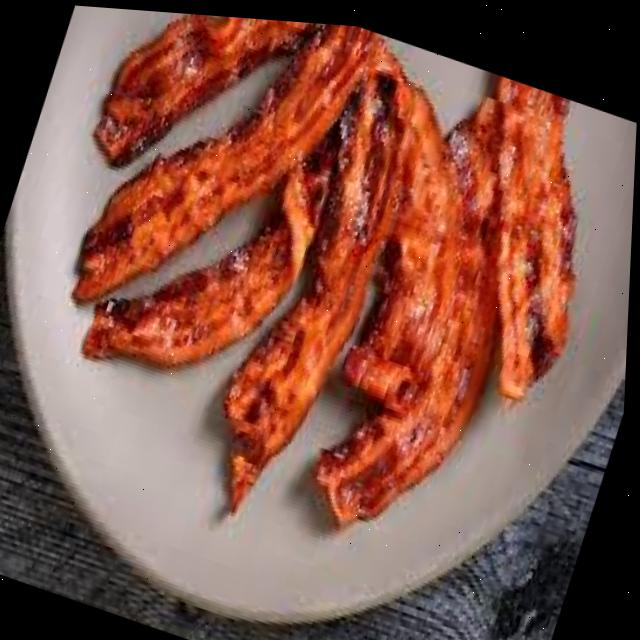Bacon: (227, 42, 414, 506), (76, 19, 378, 298), (320, 91, 501, 514), (86, 125, 334, 364), (346, 87, 454, 405), (94, 11, 316, 162), (502, 69, 576, 389)
